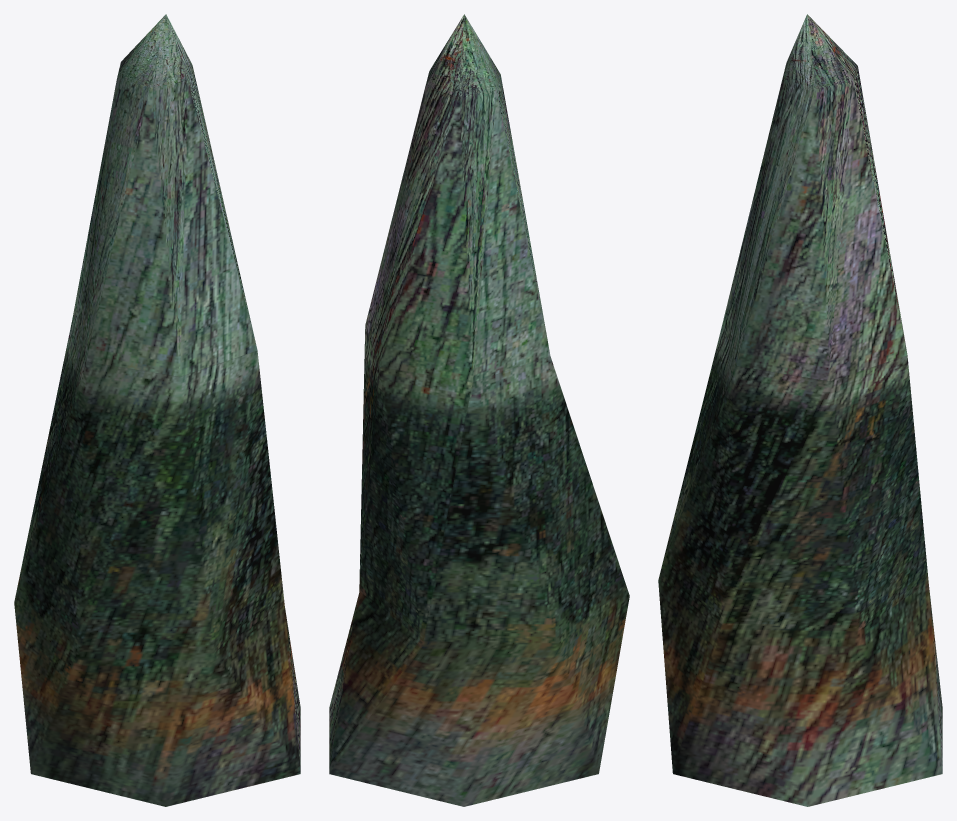
The model's file is decd_treeknee_a1_l1.fbx.
3 views of the same model, side by side, from view 1: azimuth 30°, elevation 25°; view 2: azimuth 150°, elevation 25°; view 3: azimuth 270°, elevation 25° (orthographic).
Parts seen in each view (by area): view 1: mesh_node; view 2: mesh_node; view 3: mesh_node.
Boxes of the visible parts, x1,y1,x2,y2 form: mesh_node: [14, 14, 300, 806]; mesh_node: [329, 14, 629, 806]; mesh_node: [658, 14, 942, 806].
Bounding box in the file's own units: 2.79 × 7.2 × 2.55.
